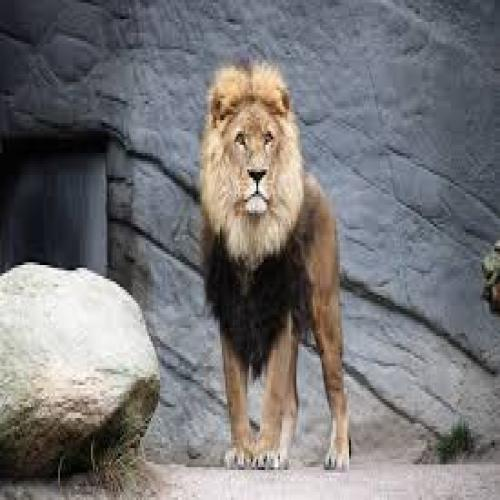lion-endangered: (200, 60, 349, 470)
